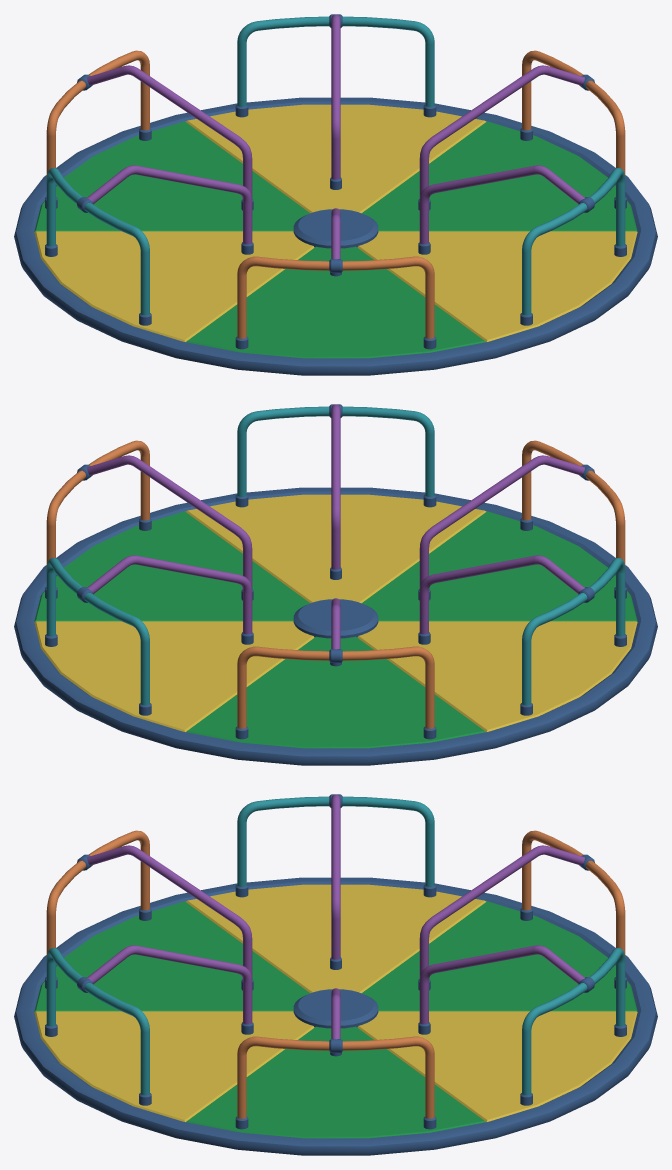
File: PlaygroundCarousel.fbx
3 views of the same model, one above another, from view 1: azimuth 30°, elevation 25°; view 2: azimuth 150°, elevation 25°; view 3: azimuth 270°, elevation 25° (orthographic).
Visible parts, largest first — view 1: top1; view 2: top1; view 3: top1.
Boxes of the visible parts, x1,y1,x2,y2 form: top1: (14,14,657,375); top1: (14,404,657,765); top1: (14,794,657,1155).
Bounding box in the file's own units: 199 × 79.32 × 200.
